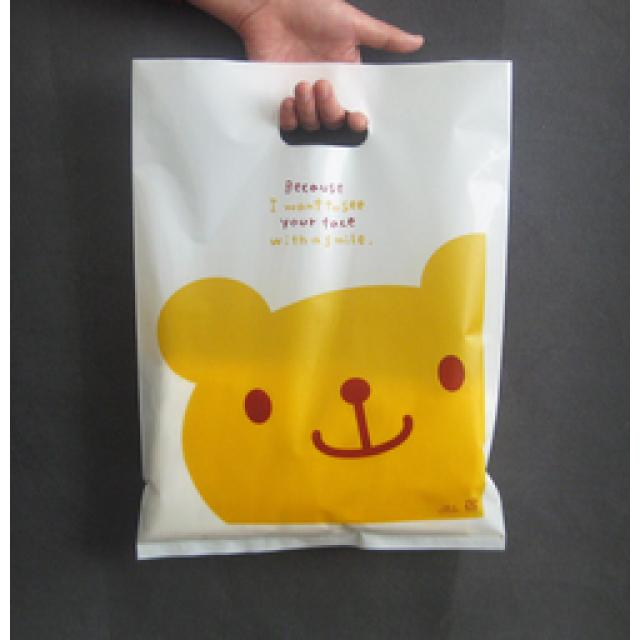plastic: (132, 60, 510, 555)
